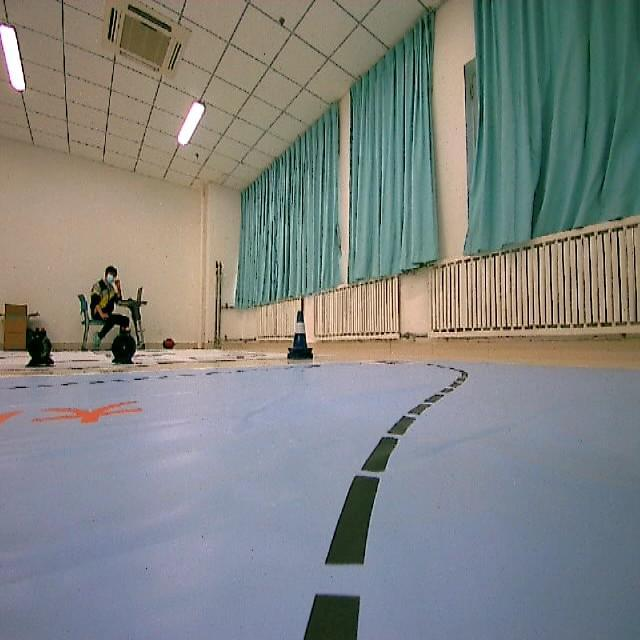obstacle: (277, 302, 319, 374)
